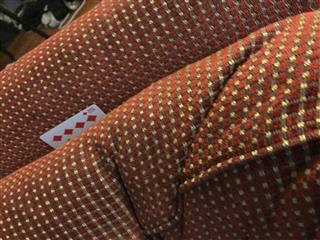TenOfDiamonds: (39, 103, 106, 149)
